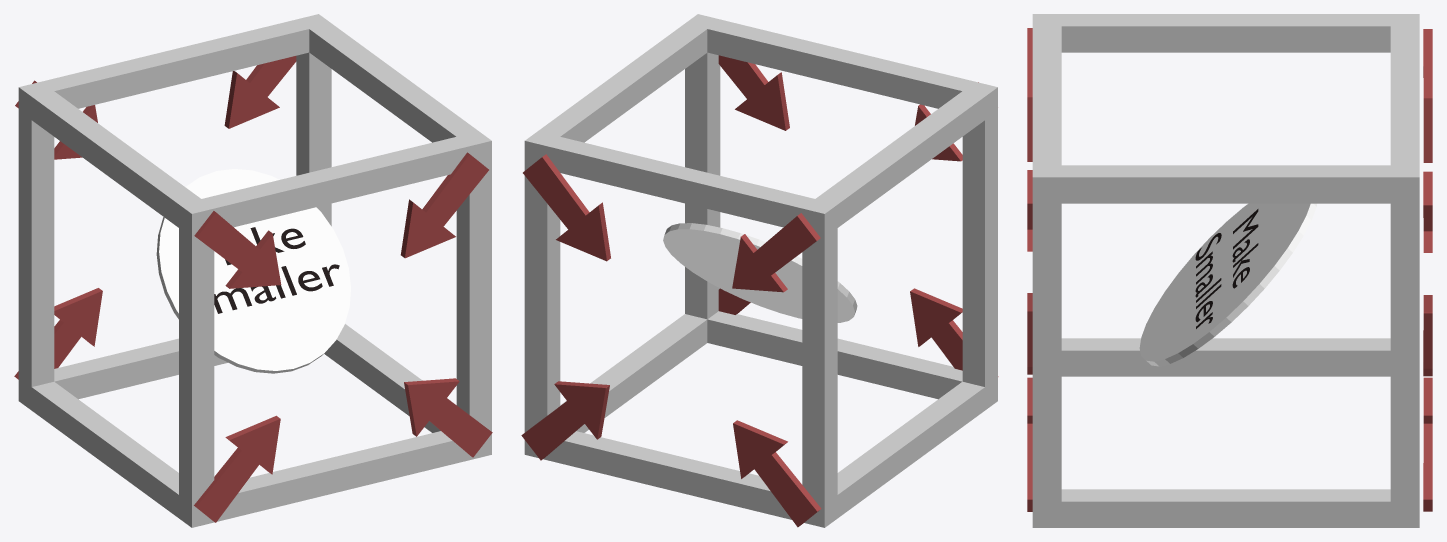
The model's file is MakeSmaller.glb.
3 renders of one model, left to right at view 1: azimuth 30°, elevation 25°; view 2: azimuth 150°, elevation 25°; view 3: azimuth 270°, elevation 25°, orthographic. The views are drawn at different scales.
Parts seen in each view (by area): view 1: Cube Frame, Cylinder.001, arrow.009, arrow.008, arrow.004, arrow.007, arrow.001, arrow.003, Text.001; view 2: Cube Frame, Cylinder.001, arrow.001, arrow.003, arrow.005, arrow.006, arrow.009, arrow.008; view 3: Cube Frame, Cylinder.001, Text.001, arrow.006, arrow.005, arrow.001, arrow.003, arrow.004, arrow.007, arrow.008, arrow.009.
Part boxes in pixels (bbox=[...]): Cube Frame: bbox=[18, 14, 491, 527]; Cylinder.001: bbox=[156, 169, 350, 373]; arrow.009: bbox=[400, 152, 488, 258]; arrow.008: bbox=[194, 415, 280, 522]; arrow.004: bbox=[404, 378, 492, 457]; arrow.007: bbox=[194, 211, 281, 288]; arrow.001: bbox=[224, 56, 296, 128]; arrow.003: bbox=[14, 288, 102, 379]; Text.001: bbox=[214, 227, 339, 313]; Cube Frame: bbox=[524, 14, 997, 527]; Cylinder.001: bbox=[663, 223, 857, 322]; arrow.001: bbox=[523, 154, 610, 261]; arrow.003: bbox=[733, 420, 821, 527]; arrow.005: bbox=[732, 213, 820, 292]; arrow.006: bbox=[521, 381, 609, 460]; arrow.009: bbox=[718, 55, 789, 130]; arrow.008: bbox=[910, 288, 998, 376]; Cube Frame: bbox=[1032, 14, 1419, 527]; Cylinder.001: bbox=[1139, 203, 1316, 366]; Text.001: bbox=[1195, 209, 1258, 328]; arrow.006: bbox=[1423, 377, 1432, 511]; arrow.005: bbox=[1423, 29, 1432, 162]; arrow.001: bbox=[1423, 171, 1432, 252]; arrow.003: bbox=[1423, 295, 1432, 376]; arrow.004: bbox=[1027, 377, 1032, 511]; arrow.007: bbox=[1027, 28, 1032, 161]; arrow.008: bbox=[1027, 293, 1032, 374]; arrow.009: bbox=[1027, 170, 1032, 251].
Size of the model in its own units: 2 by 2 by 2.1.
